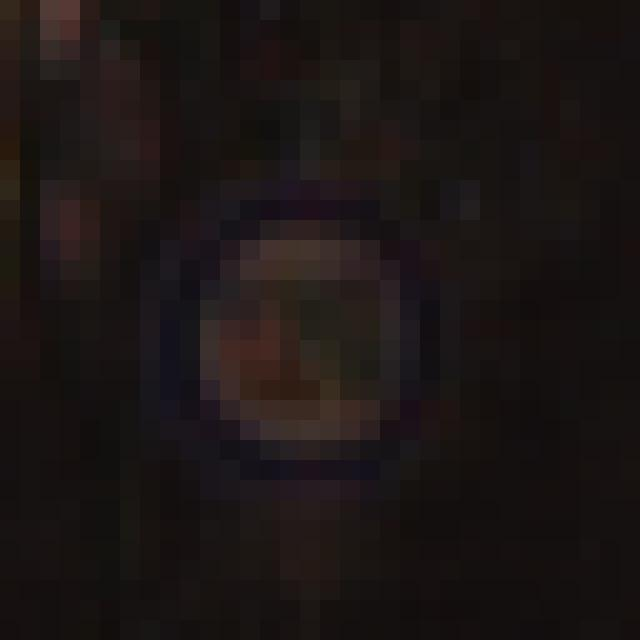SPEED LIMIT 120: (154, 215, 456, 498)
